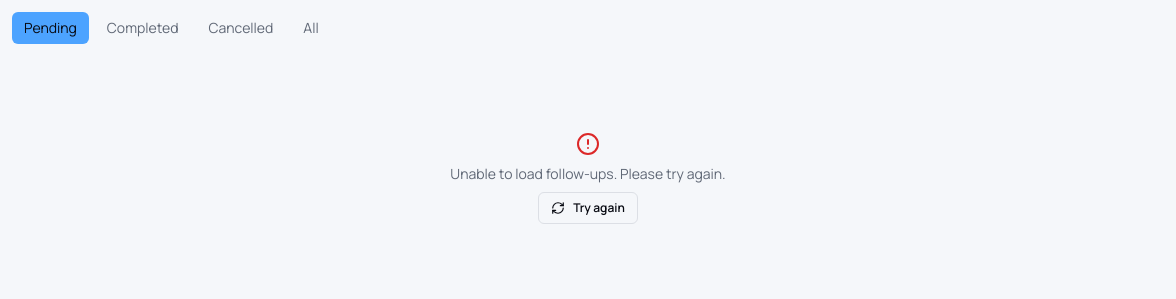
Test case: FollowUpsQueueClient › shows a fetch error with retry
Expected: the text "Unable to load follow-ups. Please try again." is shown, [450, 164, 726, 184]
Click the button "Try again": [588, 208] box [538, 192, 638, 224]
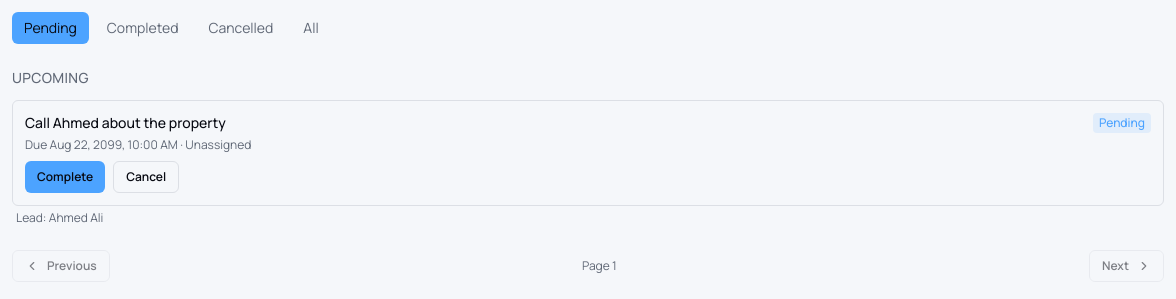
Expected: the text "Call Ahmed about the property" is shown, [25, 113, 251, 133]
